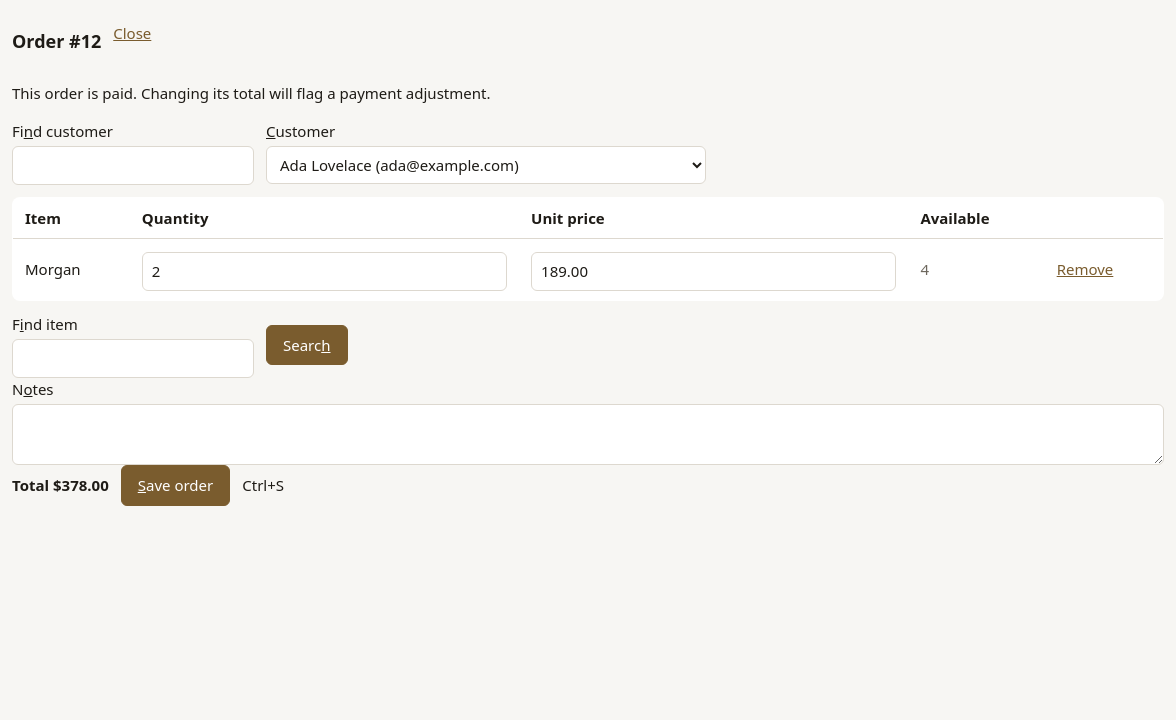
Test: OrderEditor › keeps the edits when the server refuses
Expected: the dropdown labelled "Customer" is shown, [266, 146, 706, 184]
Replace the text in the number field named "Quantity of Morgan" with "9" at {"x": 324, "y": 271}, box [142, 252, 507, 290]
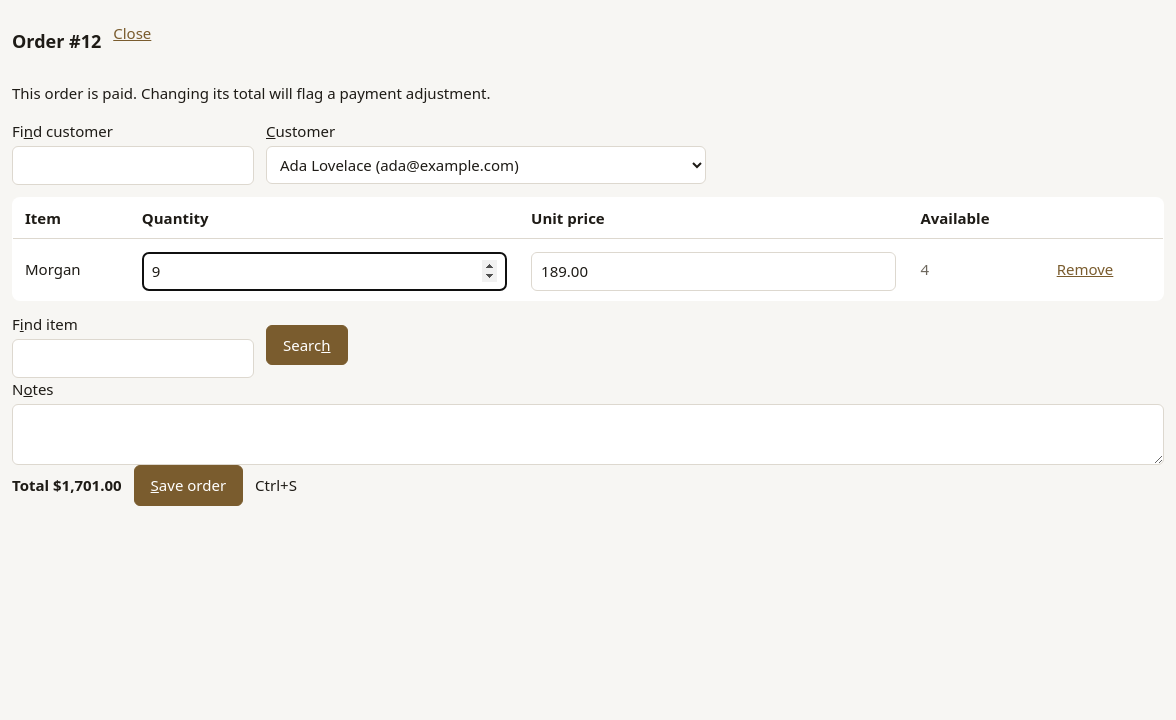
Click the button "Save order" at {"x": 188, "y": 485}, box [134, 465, 243, 506]
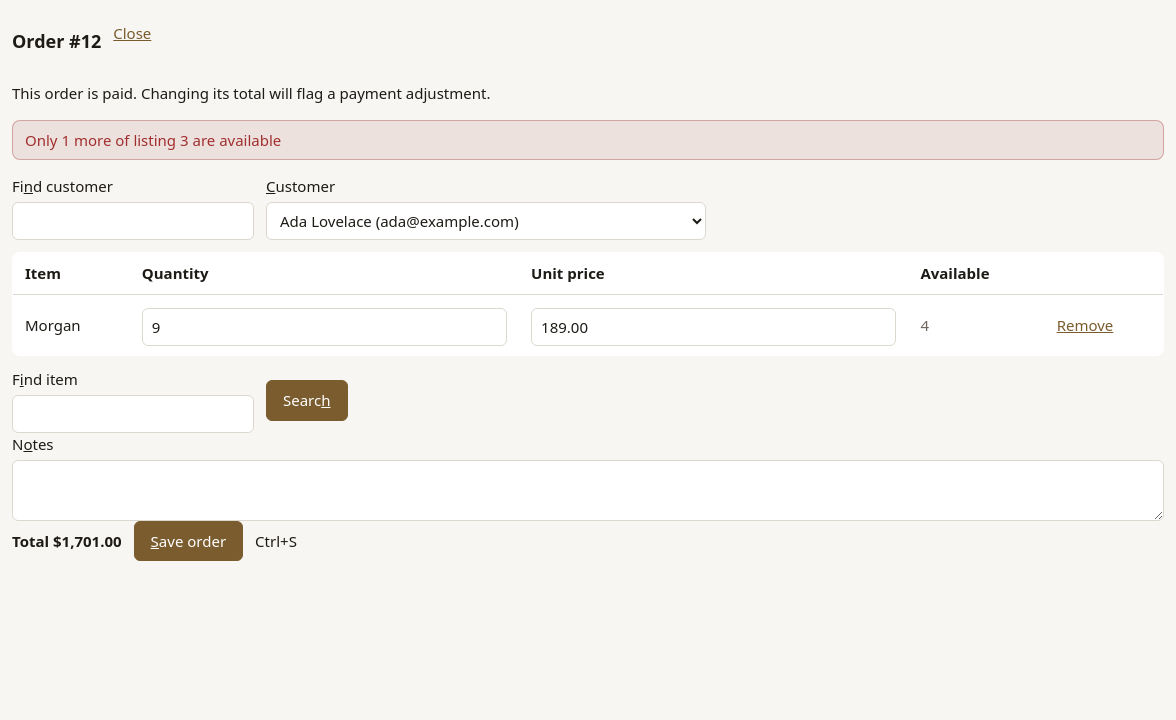
Result: the text "Only 1 more of listing 3 are available" is shown at [12, 120, 1164, 160]
